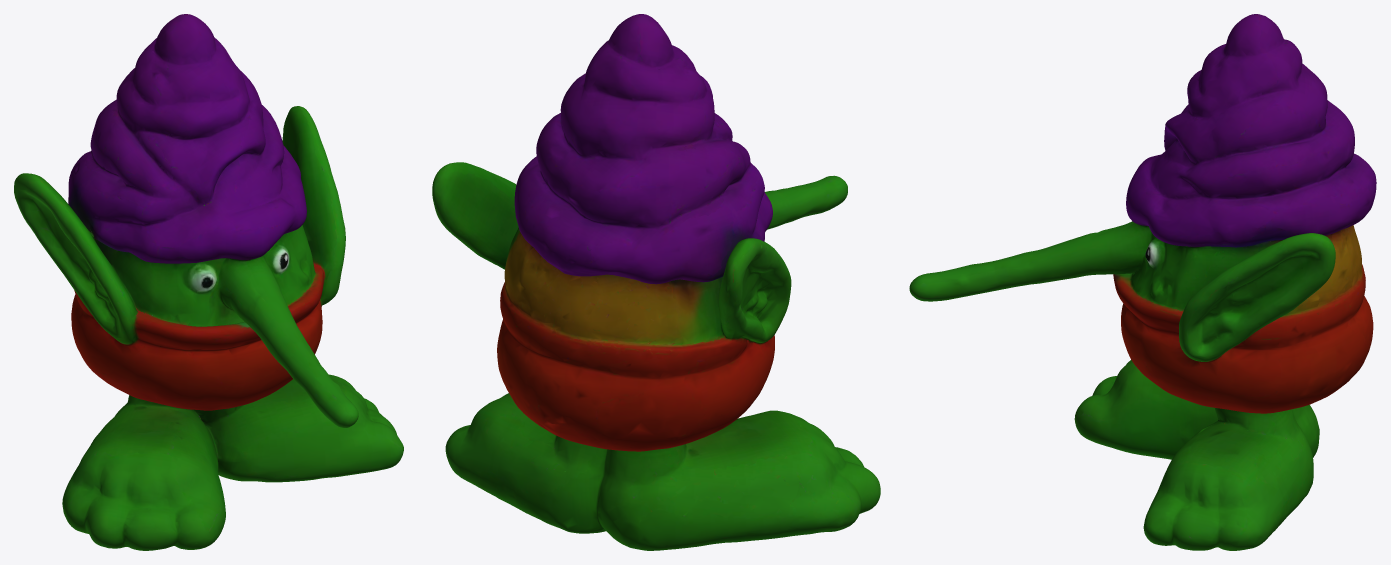
The model's file is pino.glb.
The picture shows the model from 3 angles, left to right: view 1: azimuth 30°, elevation 25°; view 2: azimuth 150°, elevation 25°; view 3: azimuth 270°, elevation 25°; orthographic projection. The views are drawn at different scales.
Parts seen in each view (by area): view 1: geometry_0; view 2: geometry_0; view 3: geometry_0.
Boxes of the visible parts, x1,y1,x2,y2 form: geometry_0: [14, 14, 403, 550]; geometry_0: [432, 14, 880, 550]; geometry_0: [909, 14, 1376, 550].
Bounding box in the file's own units: 0.7748 × 0.9997 × 0.9284.
1 material, 1 textured.
